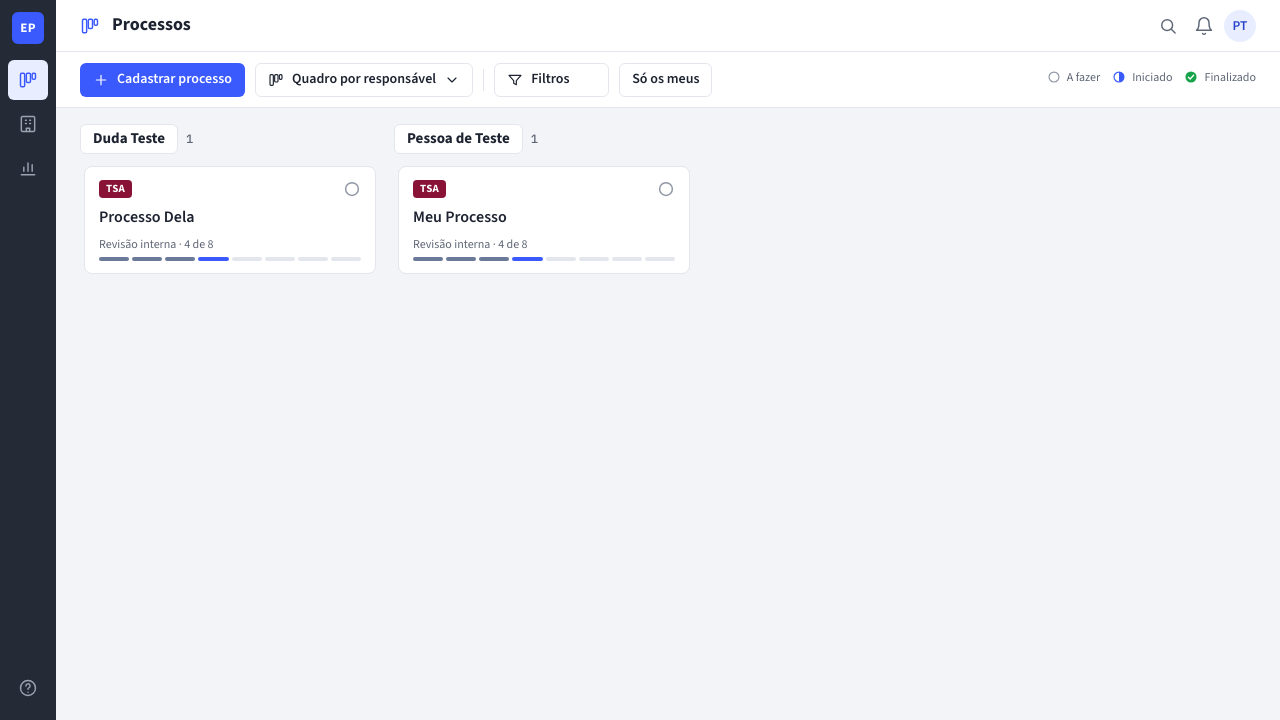
Test: Só os meus com o Quadro por responsável deixa só a minha coluna
What coordinates should you click on to do the following:
click the button "Só os meus"
I would click on:
 (666, 80)
Its box is [619,62,712,96].
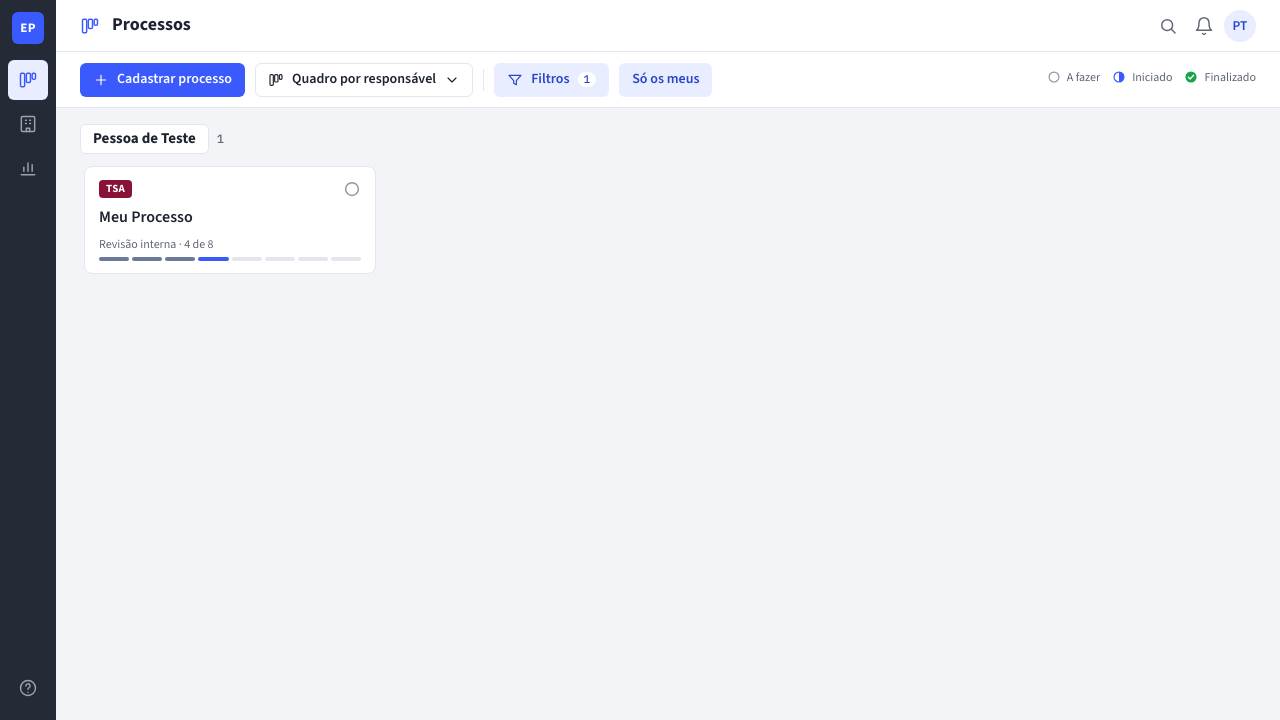
Check: the element "Pessoa de Teste" is shown, box [80,124,376,274]
Check: the text "Duda Teste" is gone
